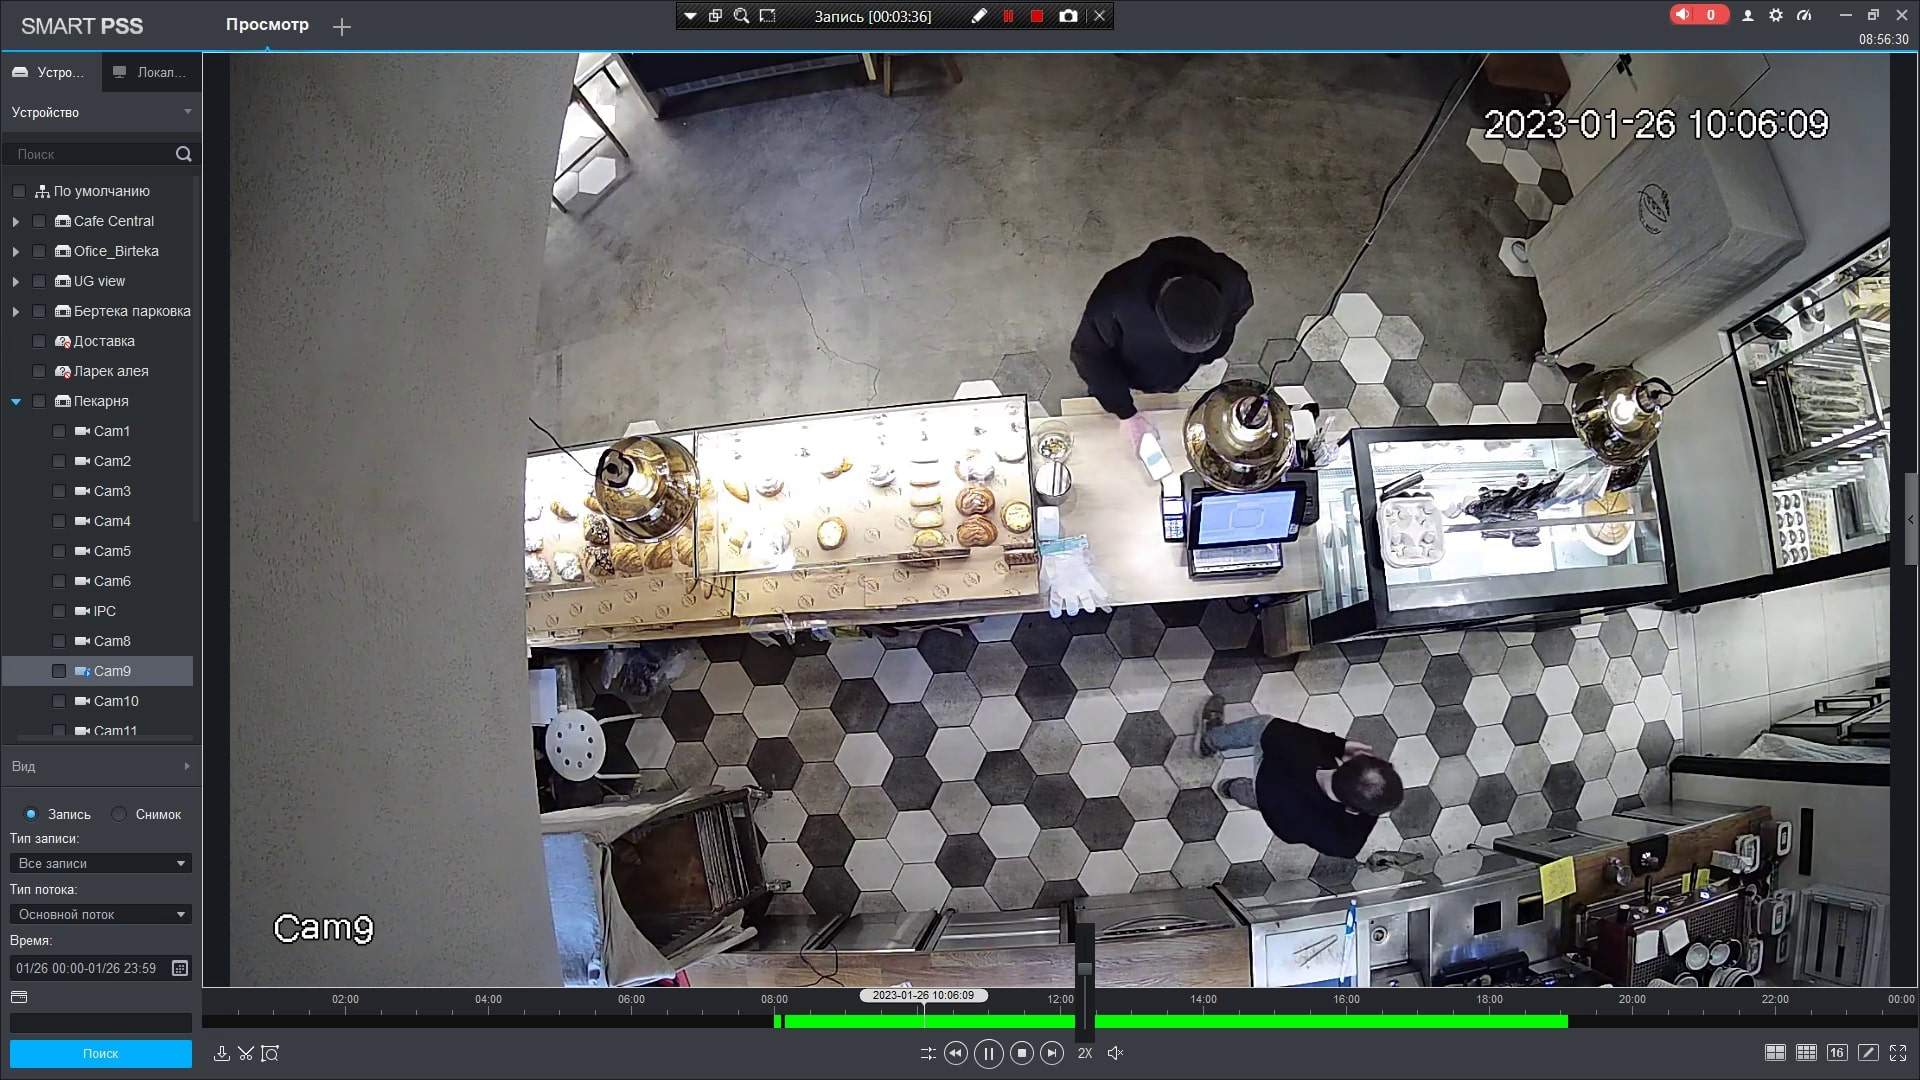barcounter: (532, 436, 1691, 624)
person: (1195, 677, 1408, 855), (1071, 236, 1239, 426)
terminal: (1139, 427, 1191, 543)
